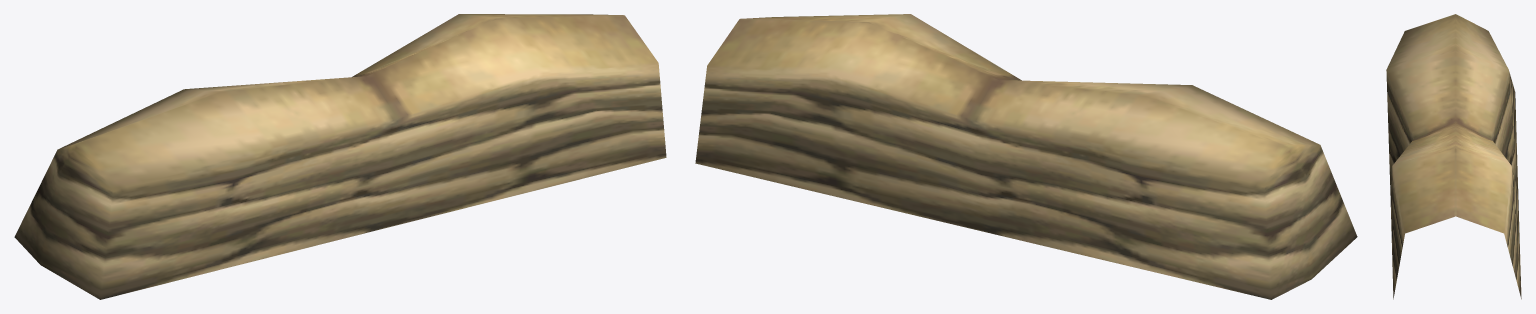
The model's file is SandBags2_Low_End1.glb.
3 views of the same model, side by side, from view 1: azimuth 30°, elevation 25°; view 2: azimuth 150°, elevation 25°; view 3: azimuth 270°, elevation 25° (orthographic). The views are drawn at different scales.
Visible parts, largest first — view 1: SANDBAGS2_LOW_END1; view 2: SANDBAGS2_LOW_END1; view 3: SANDBAGS2_LOW_END1.
Part boxes in pixels (x1=…): SANDBAGS2_LOW_END1: x1=14, y1=14, x2=666, y2=299; SANDBAGS2_LOW_END1: x1=695, y1=14, x2=1357, y2=299; SANDBAGS2_LOW_END1: x1=1386, y1=14, x2=1521, y2=299.
Size of the model in its own units: 2 by 0.469 by 0.542.
Materials: 1 (1 with a texture image).
